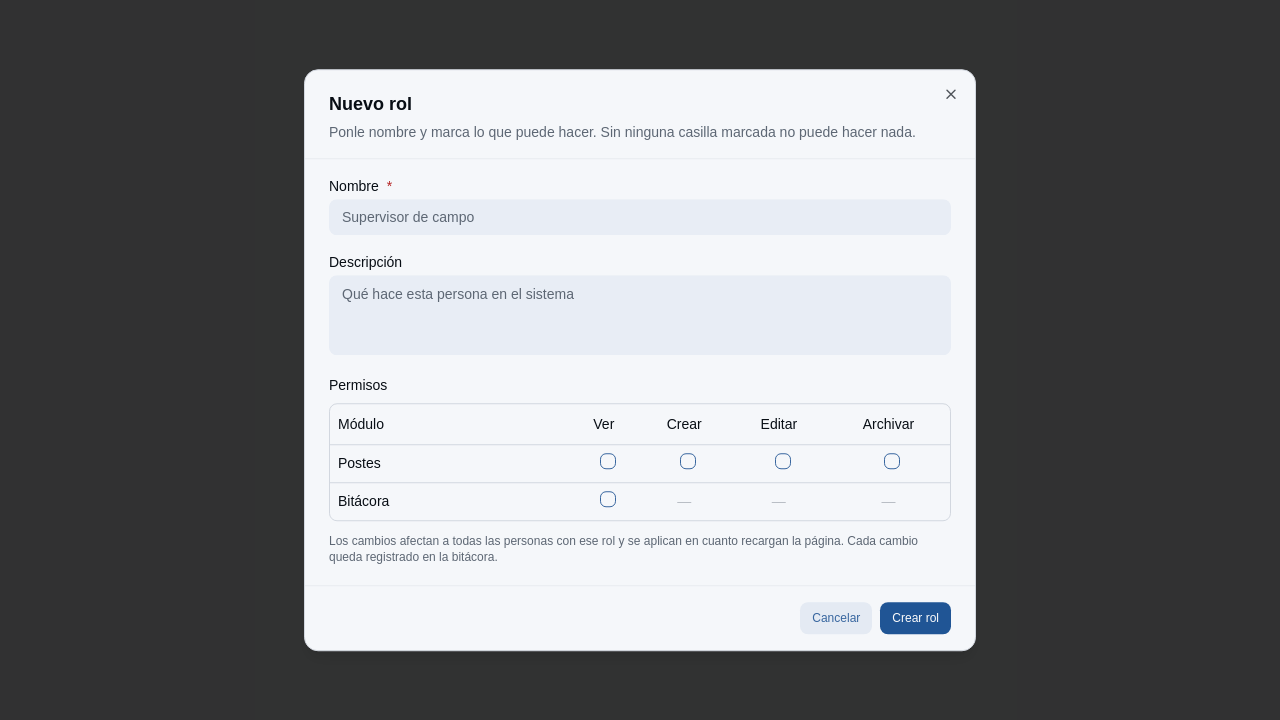
it: a new role › is refused without a name, without asking the server
The image size is (1280, 720).
Click the button "Crear rol".
click(916, 618)  # box x1=880 y1=602 x2=951 y2=634
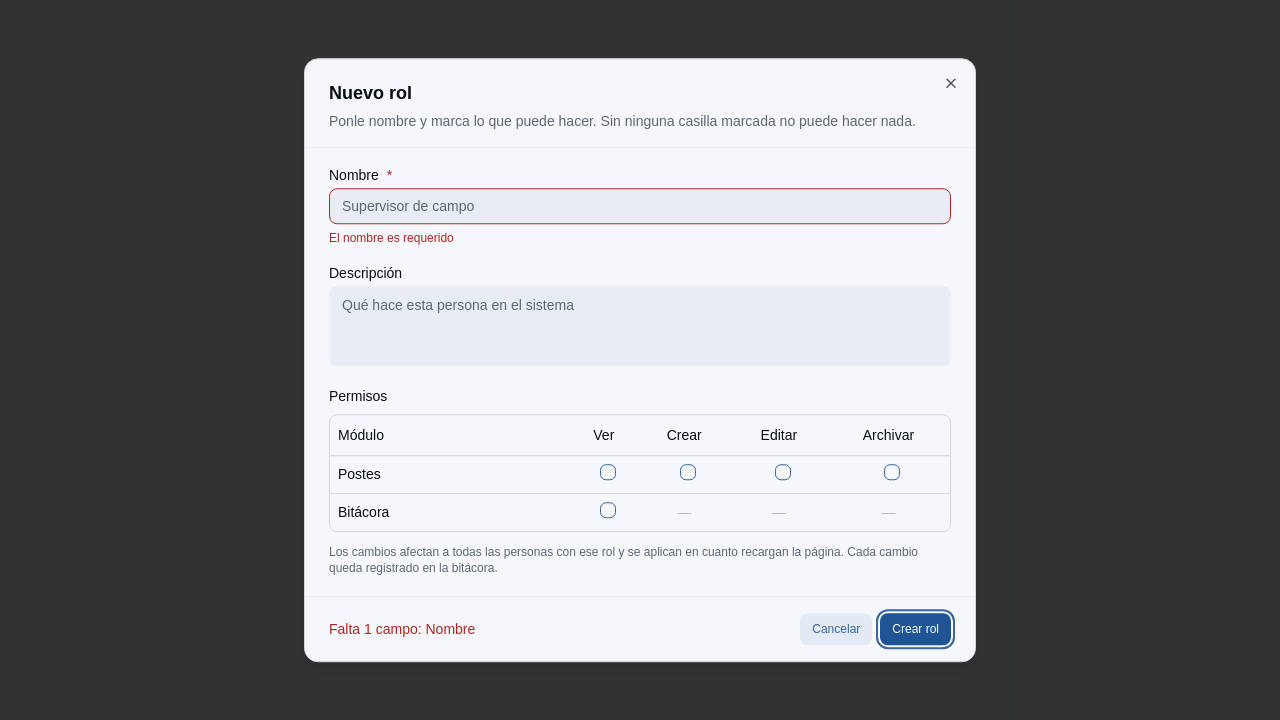
Expected: the text "El nombre es requerido" is shown, x1=329 y1=231 x2=454 y2=245
